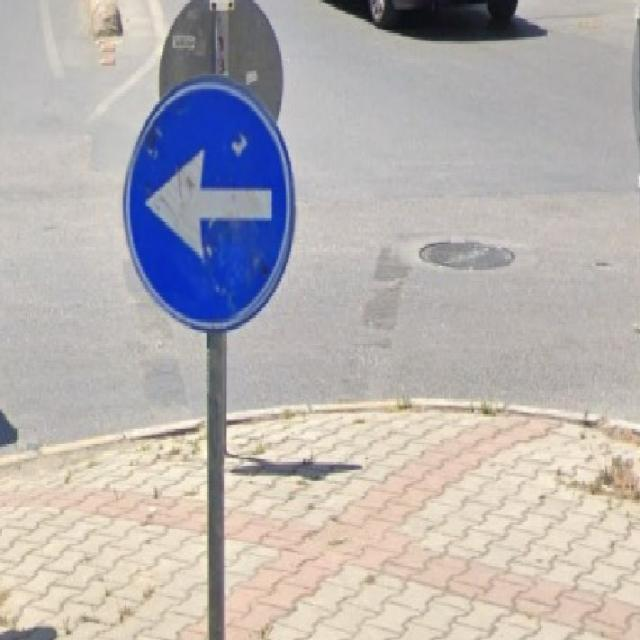Turn Left: (120, 77, 297, 332)
